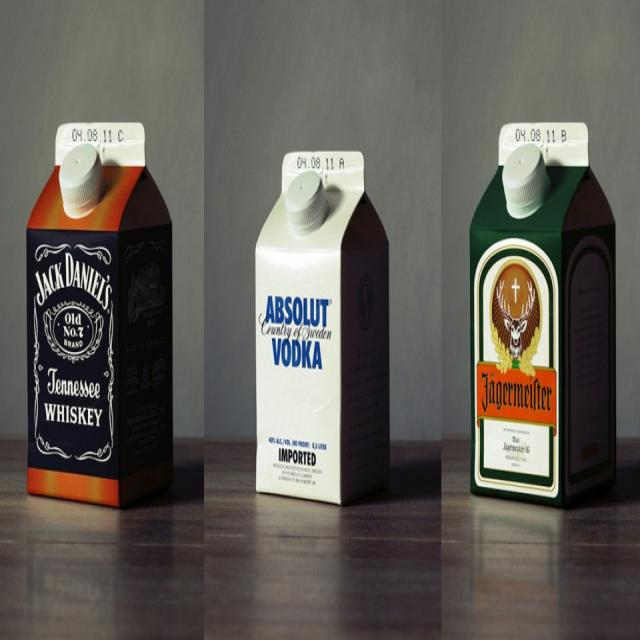cardboard: (464, 117, 618, 504), (249, 137, 402, 523), (26, 117, 174, 504)
